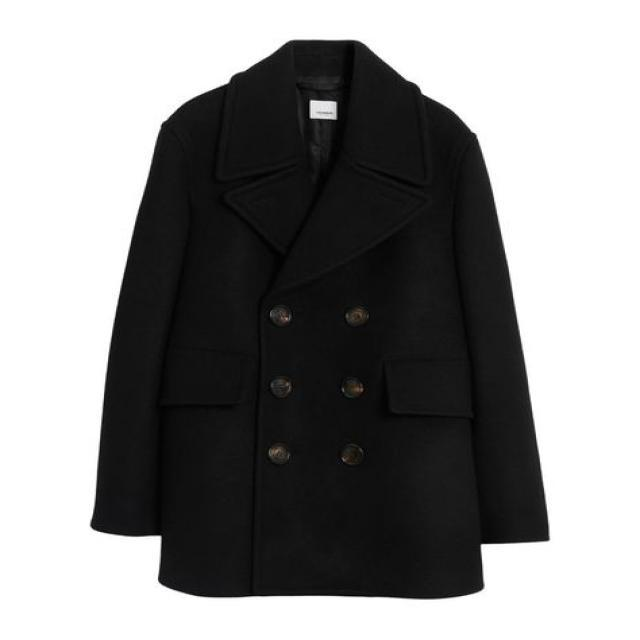coat: (86, 35, 556, 601)
